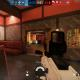Friend_label: (24, 30, 26, 33)
